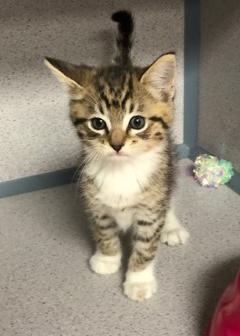bengal: (42, 49, 187, 169)
